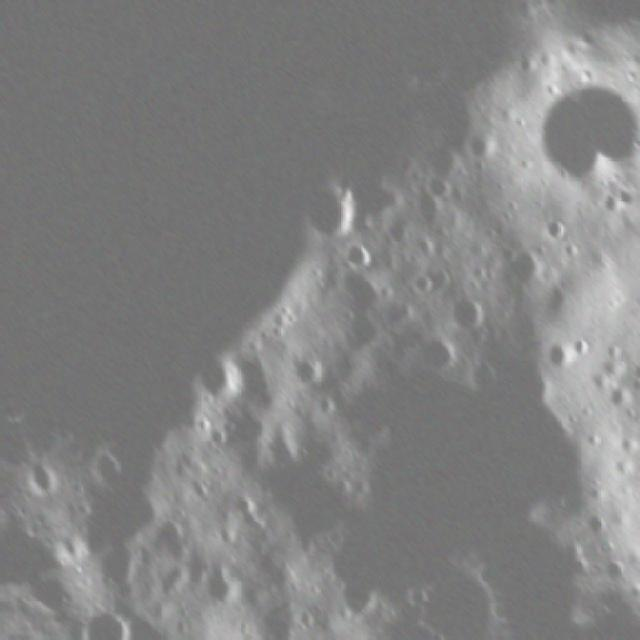crater: (296, 172, 367, 246), (189, 347, 249, 405), (539, 325, 584, 381), (442, 285, 486, 341), (498, 241, 544, 290), (84, 444, 127, 490), (412, 175, 454, 217), (397, 265, 437, 303), (538, 210, 578, 247), (289, 352, 326, 388), (601, 375, 634, 414), (336, 242, 376, 272), (578, 512, 608, 545), (315, 395, 342, 420), (558, 236, 579, 267), (624, 360, 640, 396)
